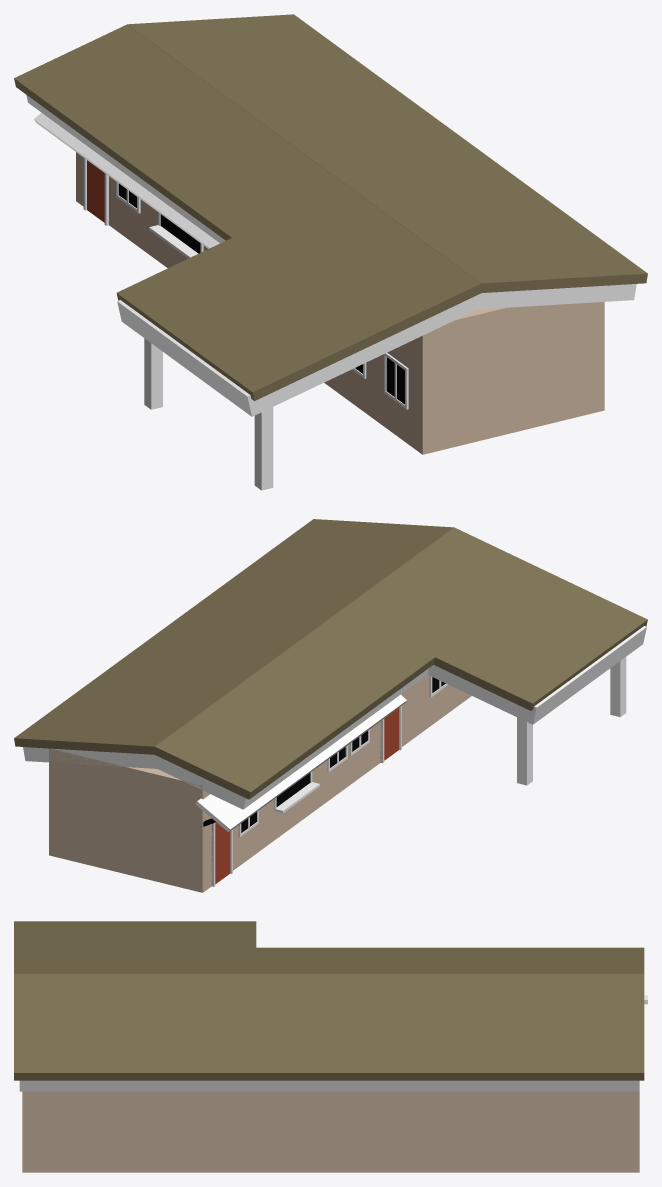
The model's file is LaundryDepartment.glb.
3 views of the same model, one above another, from view 1: azimuth 30°, elevation 25°; view 2: azimuth 150°, elevation 25°; view 3: azimuth 270°, elevation 25° (orthographic). The views are drawn at different scales.
Visible parts, largest first — view 1: cube.007; view 2: cube.007; view 3: cube.007.
Part boxes in pixels (x1,y1,x2,y2): cube.007: (14, 14, 647, 490); cube.007: (14, 519, 647, 892); cube.007: (14, 921, 647, 1172).
Bounding box in the file's own units: 2.73 × 1.06 × 4.24.
Materials: 7 (7 with a texture image).
